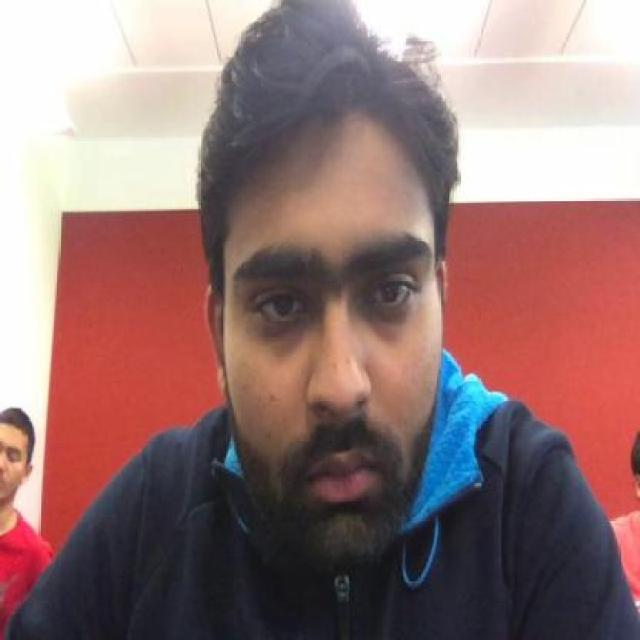awake: (255, 284, 308, 324), (366, 274, 417, 314)
